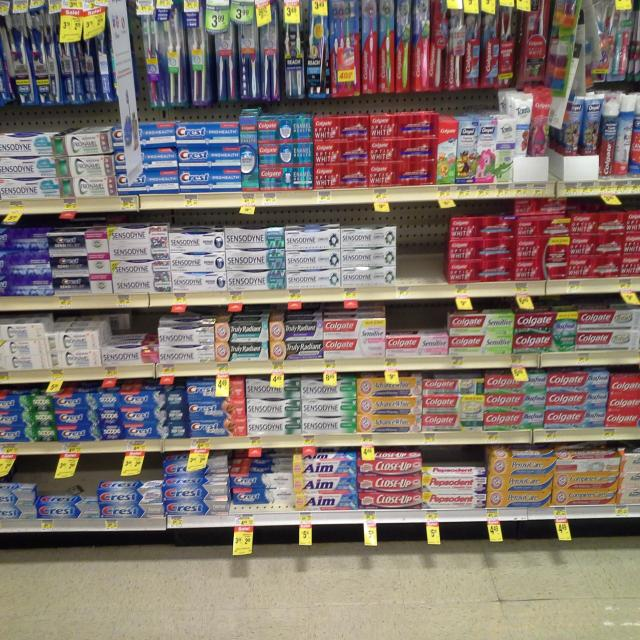void: (396, 209, 423, 307), (425, 208, 446, 300)
